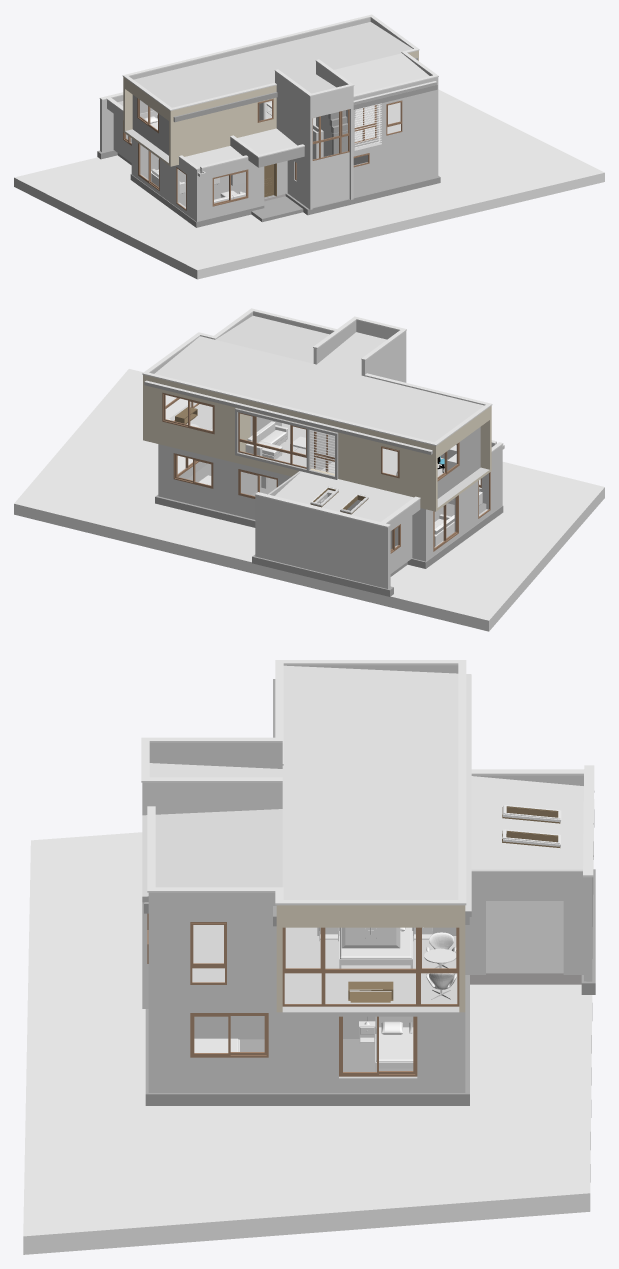
Rendered from CasaConEscaleraVuelta.fbx.
3 views of the same model, one above another, from view 1: azimuth 30°, elevation 25°; view 2: azimuth 150°, elevation 25°; view 3: azimuth 270°, elevation 25° (orthographic). The views are drawn at different scales.
Visible parts, largest first — view 1: Material38, Material6, Material43, Material40, Material37, Material10, Material4, Material15, Material11, Cube, Cube (1), Cube (3) 1 (+5 smaller); view 2: Material38, Material6, Material43, Material10, Material37, Material4, Material15, Material11, Material40, Cube, Cube (4), Cube (1) (+2 smaller); view 3: Material38, Material43, Material6, Material4, Material37, Cube, Material15, Cube (3), Material10, Material40, Material19.005, Material18.002 (+6 smaller).
Boxes of the visible parts, x1=… form: Material38: x1=14, y1=89, x2=604, y2=270; Material6: x1=100, y1=17, x2=438, y2=221; Material43: x1=118, y1=22, x2=436, y2=167; Material40: x1=275, y1=71, x2=353, y2=209; Material37: x1=14, y1=172, x2=604, y2=279; Material10: x1=123, y1=50, x2=418, y2=166; Material4: x1=99, y1=14, x2=438, y2=169; Material15: x1=123, y1=98, x2=402, y2=210; Material11: x1=132, y1=82, x2=436, y2=167; Cube: x1=285, y1=176, x2=440, y2=215; Cube (1): x1=130, y1=171, x2=274, y2=221; Cube (3) 1: x1=173, y1=57, x2=417, y2=122; Material38: x1=14, y1=369, x2=604, y2=620; Material6: x1=150, y1=312, x2=504, y2=588; Material43: x1=145, y1=315, x2=484, y2=521; Material10: x1=143, y1=374, x2=491, y2=511; Material37: x1=14, y1=487, x2=604, y2=631; Material4: x1=142, y1=308, x2=503, y2=527; Material15: x1=162, y1=392, x2=490, y2=553; Material11: x1=144, y1=382, x2=480, y2=498; Material40: x1=313, y1=331, x2=406, y2=382; Cube: x1=155, y1=463, x2=276, y2=527; Cube (4): x1=252, y1=554, x2=393, y2=596; Cube (1): x1=407, y1=503, x2=493, y2=568; Material38: x1=23, y1=799, x2=594, y2=1236; Material43: x1=142, y1=665, x2=583, y2=911; Material6: x1=148, y1=665, x2=593, y2=1092; Material4: x1=141, y1=660, x2=594, y2=905; Material37: x1=23, y1=809, x2=594, y2=1254; Cube: x1=145, y1=975, x2=469, y2=1105; Material15: x1=147, y1=913, x2=459, y2=1076; Cube (3): x1=486, y1=901, x2=563, y2=973; Material10: x1=276, y1=905, x2=465, y2=1012; Material40: x1=142, y1=782, x2=282, y2=1008; Material19.005: x1=376, y1=1021, x2=413, y2=1061; Material18.002: x1=341, y1=927, x2=441, y2=968.
Bounding box in the file's own units: 1266 × 349 × 700.
